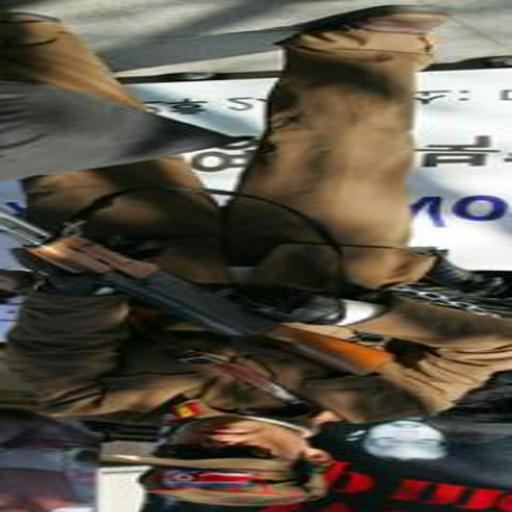north army: (47, 39, 397, 455)
